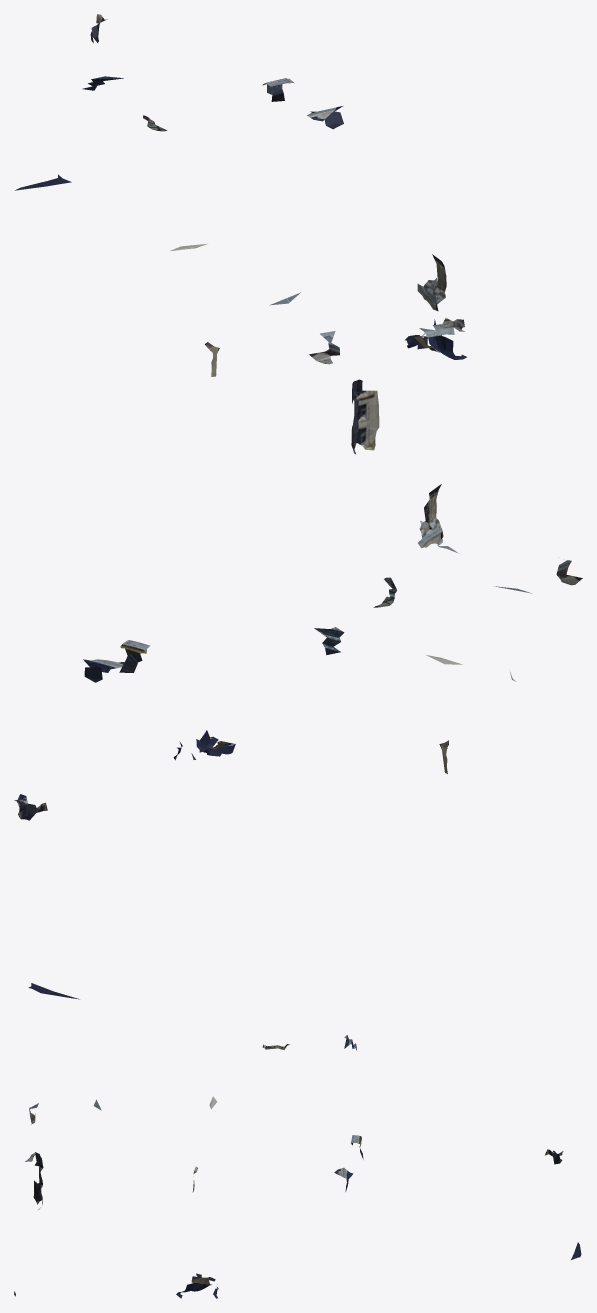
Rendered from hero-reichstag-3898_58196-material-4.glb.
3 views of the same model, one above another, from view 1: azimuth 30°, elevation 25°; view 2: azimuth 150°, elevation 25°; view 3: azimuth 270°, elevation 25° (orthographic). The views are drawn at different scales.
Parts seen in each view (by area): view 1: world; view 2: world; view 3: world.
Part boxes in pixels (x1,y1,x2,y2): world: (15, 14, 466, 454); world: (14, 484, 582, 999); world: (14, 1035, 581, 1298).
Size of the model in its own units: 55.89 by 51.66 by 143.
Materials: 1 (1 with a texture image).
